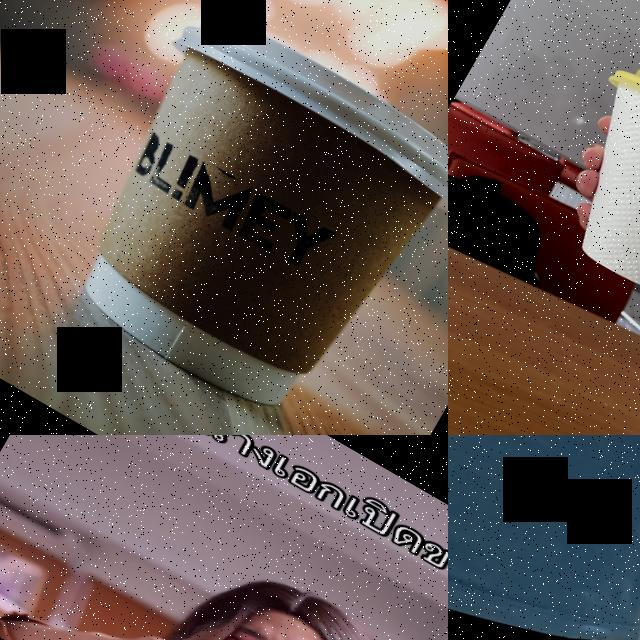cup: (30, 0, 448, 435), (525, 48, 640, 316)
